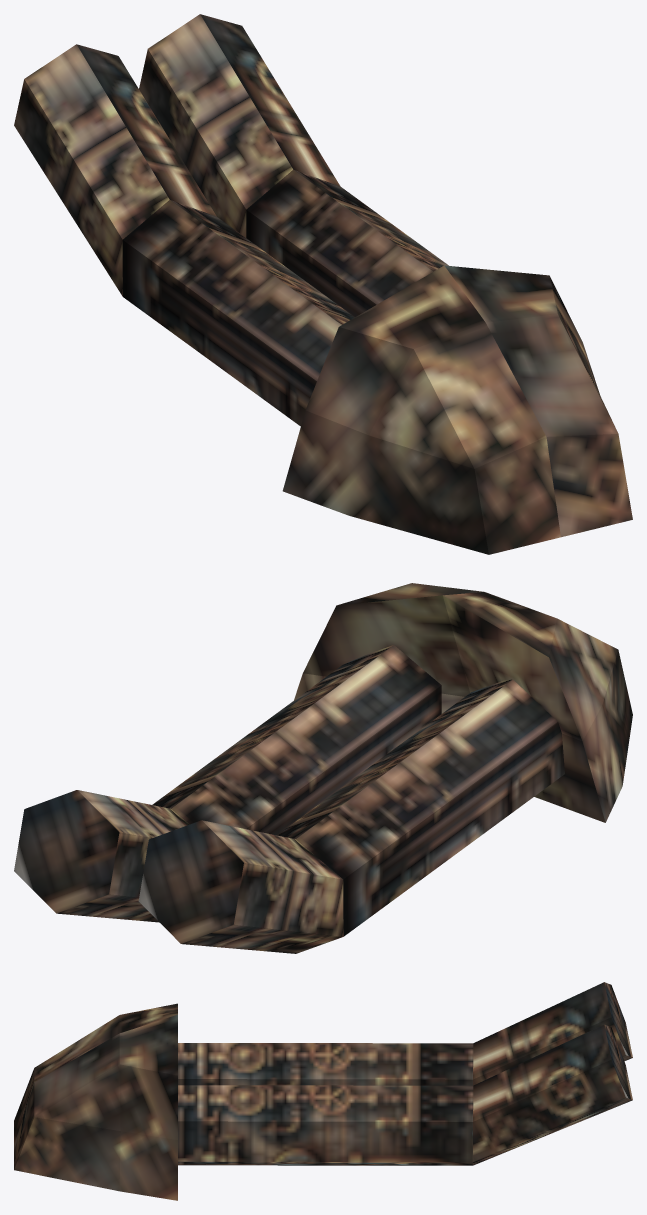
Rendered from chimney.fbx.
3 renders of one model, top to bottom at view 1: azimuth 30°, elevation 25°; view 2: azimuth 150°, elevation 25°; view 3: azimuth 270°, elevation 25°, orthographic. The views are drawn at different scales.
Parts seen in each view (by area): view 1: Cube, Cube.001, Cube.002; view 2: Cube.001, Cube.002, Cube; view 3: Cube.002, Cube, Cube.001.
Part boxes in pixels (<box>): Cube: <box>282,265,632,554</box>; Cube.001: <box>14,44,354,426</box>; Cube.002: <box>139,14,448,317</box>; Cube.001: <box>138,679,564,953</box>; Cube.002: <box>14,645,441,922</box>; Cube: <box>294,583,632,822</box>; Cube.002: <box>178,1024,632,1165</box>; Cube: <box>14,1003,177,1200</box>; Cube.001: <box>178,982,632,1085</box>.
Size of the model in its own units: 83.22 by 54.19 by 196.
